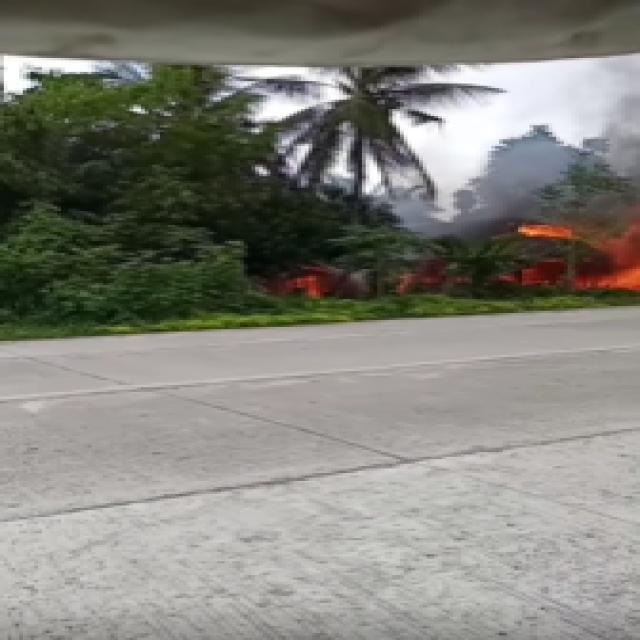Fire: (533, 216, 640, 299)
Smoke: (464, 78, 640, 228)
